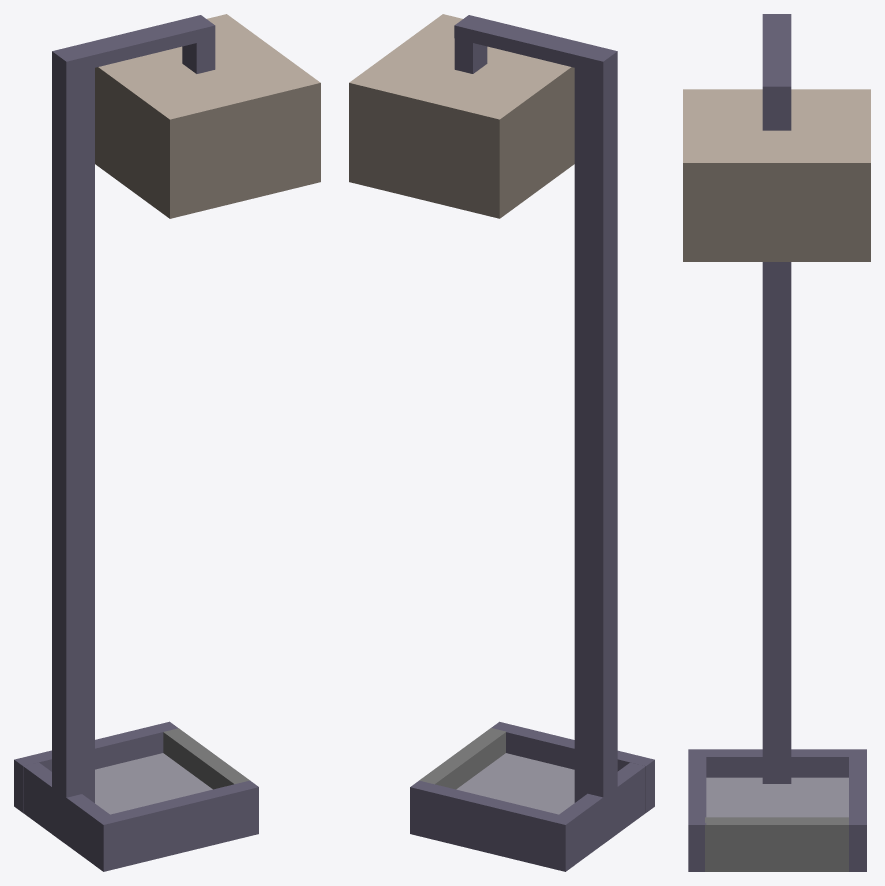
File: lamp.obj
3 renders of one model, left to right at view 1: azimuth 30°, elevation 25°; view 2: azimuth 150°, elevation 25°; view 3: azimuth 270°, elevation 25°, orthographic.
Parts seen in each view (by area): view 1: polySurface13, polySurface8 pCube11; view 2: polySurface13, polySurface8 pCube11; view 3: polySurface13, polySurface8 pCube11.
Part boxes in pixels (box(x1,y1,x2,y2)): polySurface13: box(14, 14, 320, 871); polySurface8 pCube11: box(163, 728, 249, 789); polySurface13: box(349, 14, 654, 871); polySurface8 pCube11: box(419, 728, 505, 789); polySurface13: box(683, 14, 870, 871); polySurface8 pCube11: box(705, 817, 848, 871).
Size of the model in its own units: 0.9174 by 3.2 by 0.696.
Materials: 5 (4 with a texture image).
